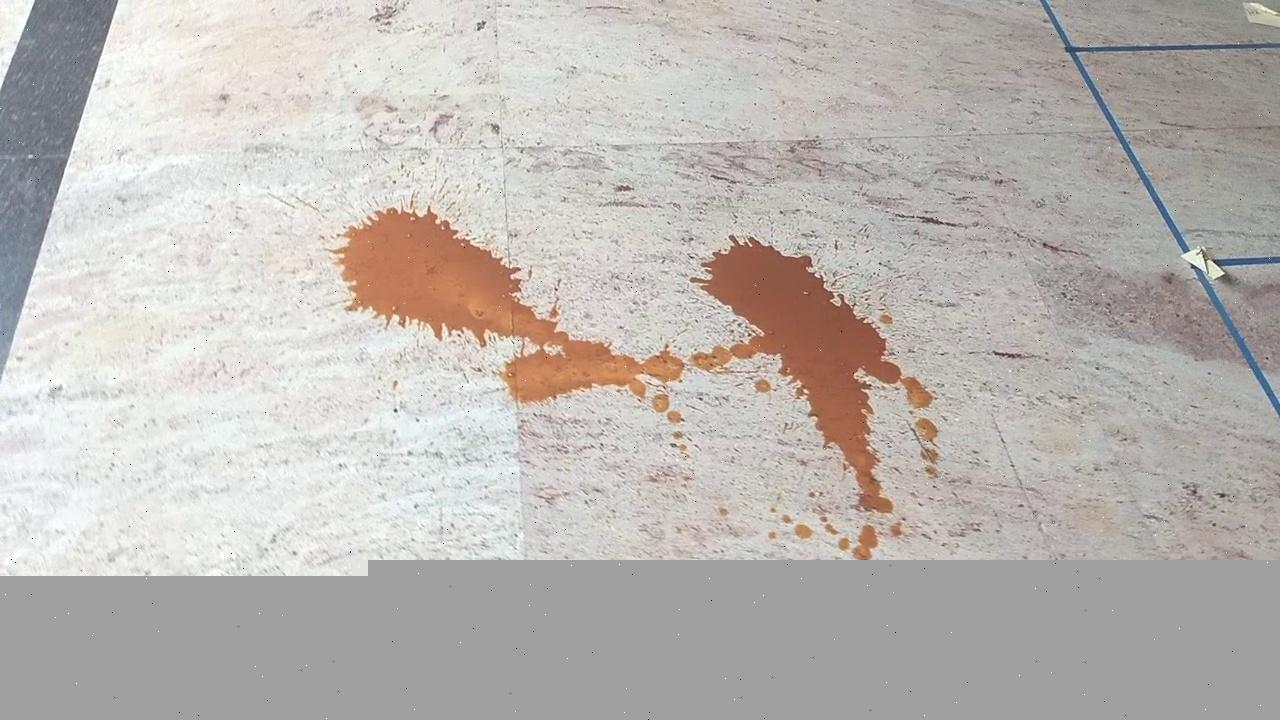dirty_floor: (341, 205, 943, 561)
